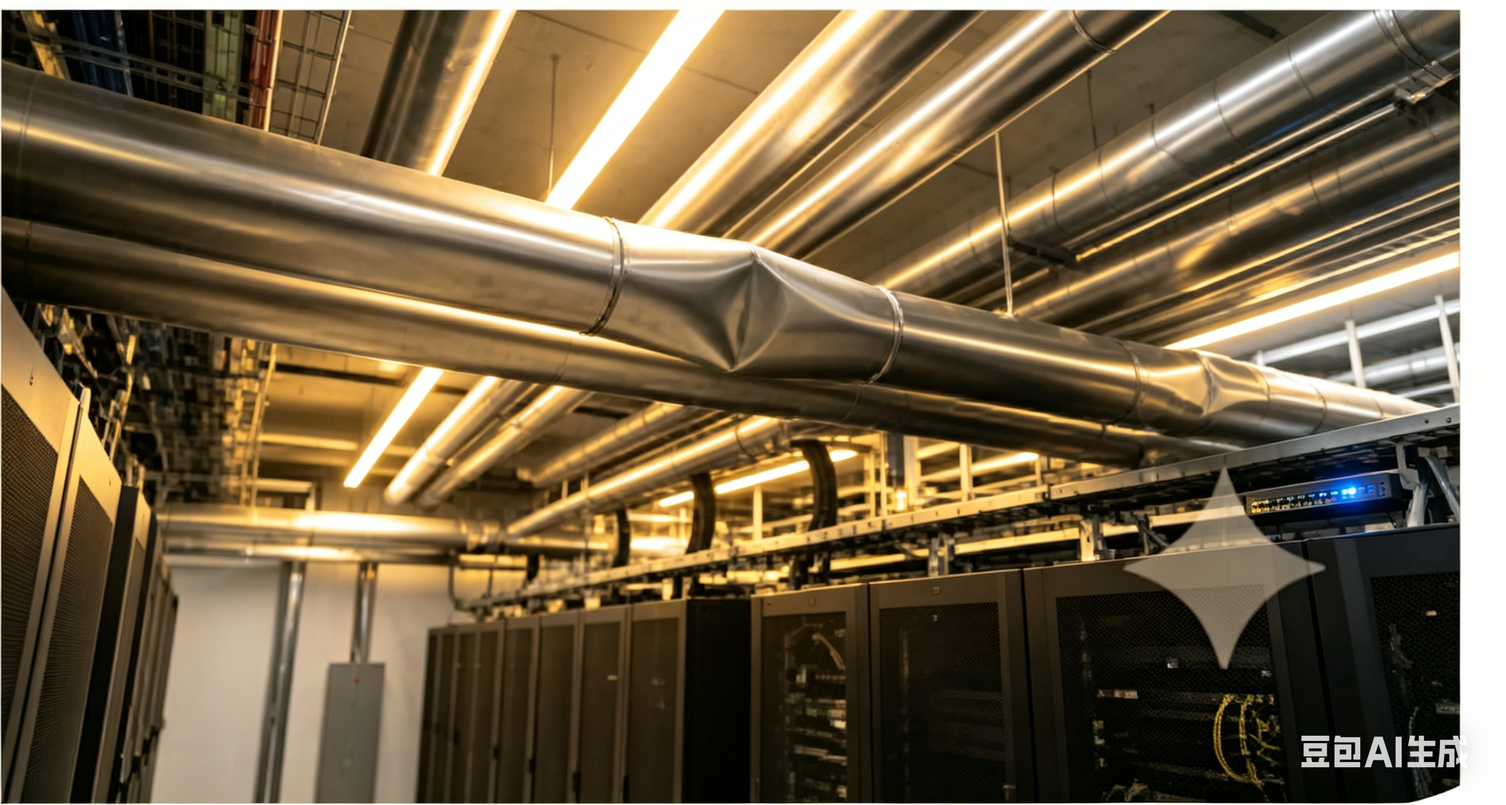Leakage: (661, 241, 827, 380)
